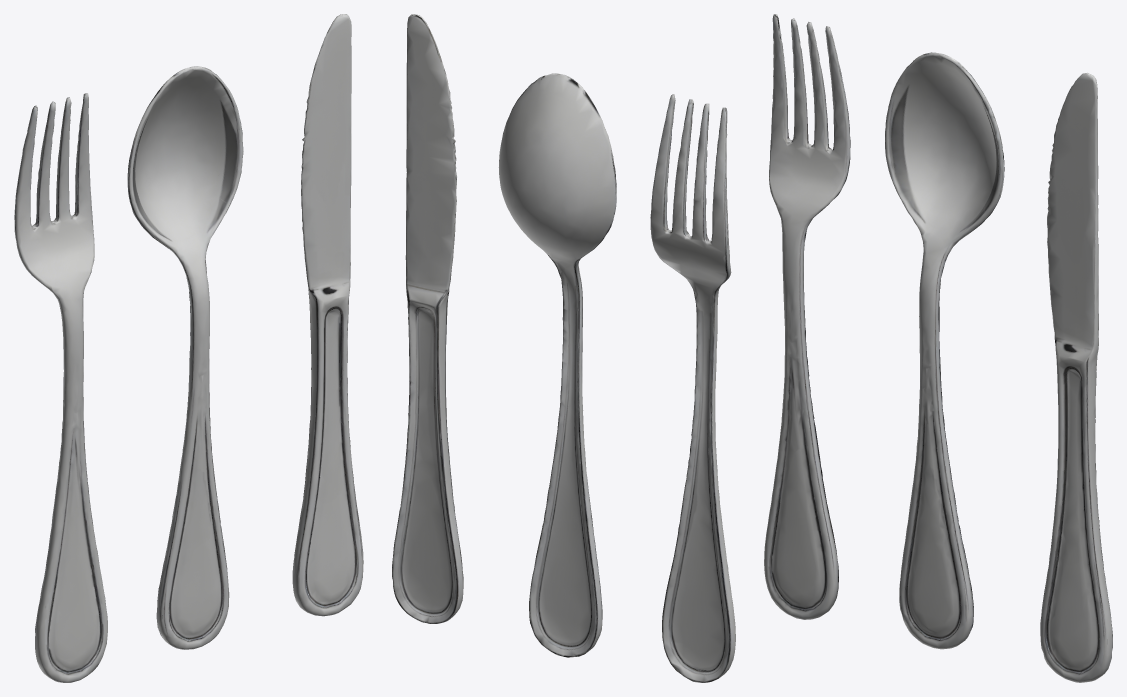
Rendered from cataltakim.fbx.
3 views of the same model, side by side, from view 1: azimuth 30°, elevation 25°; view 2: azimuth 150°, elevation 25°; view 3: azimuth 330°, elevation 25° (orthographic). The views are drawn at different scales.
Parts seen in each view (by area): view 1: Mesh_0.002, Mesh_0, Mesh_0.001; view 2: Mesh_0.002, Mesh_0, Mesh_0.001; view 3: Mesh_0.002, Mesh_0, Mesh_0.001.
Part boxes in pixels (left/top/right/bottom): Mesh_0.002: left=127, top=66, right=243, bottom=649; Mesh_0: left=292, top=14, right=363, bottom=616; Mesh_0.001: left=14, top=93, right=107, bottom=682; Mesh_0.002: left=499, top=73, right=616, bottom=657; Mesh_0: left=392, top=14, right=463, bottom=623; Mesh_0.001: left=650, top=94, right=735, bottom=682; Mesh_0.002: left=885, top=52, right=1004, bottom=649; Mesh_0: left=1040, top=73, right=1112, bottom=682; Mesh_0.001: left=764, top=14, right=850, bottom=619.
Bounding box in the file's own units: 113 × 191 × 24.31.
1 material, 1 textured.
